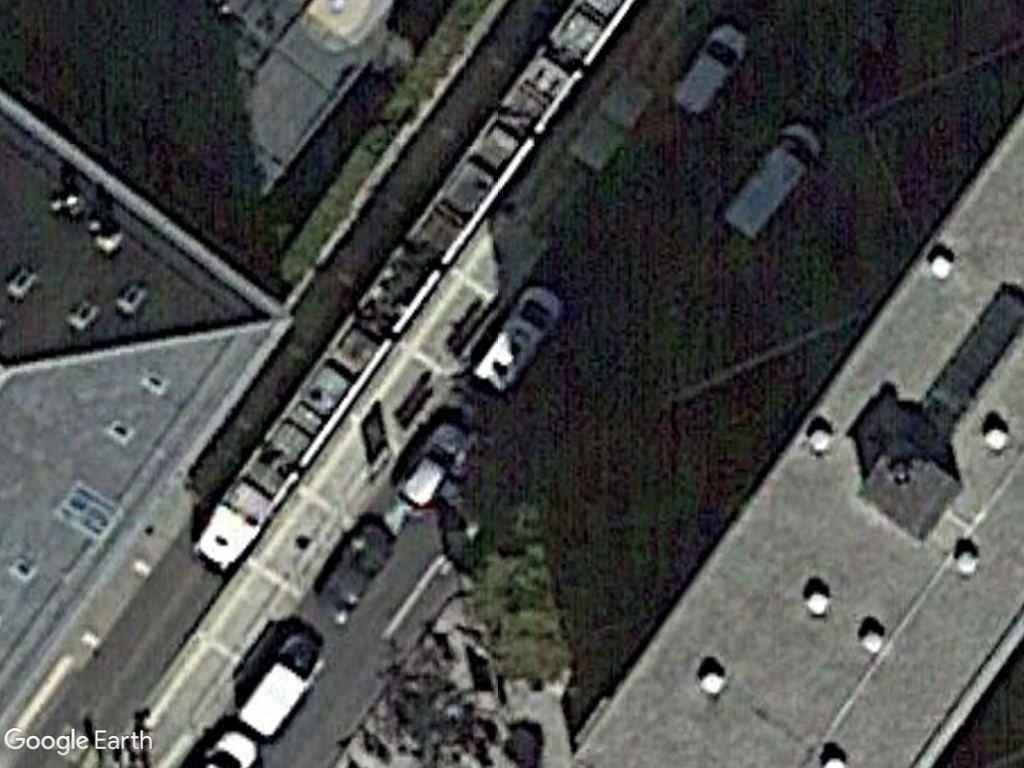car: (393, 416, 472, 519)
van: (719, 122, 827, 247), (465, 284, 561, 398), (668, 22, 751, 122)
